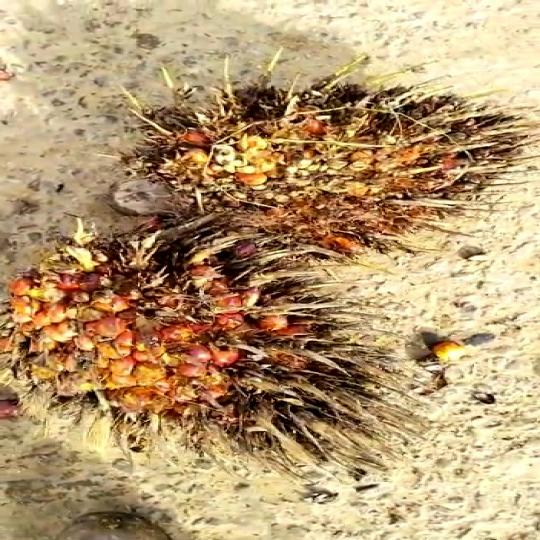terlalu masak: (0, 245, 394, 455), (119, 87, 535, 262)
